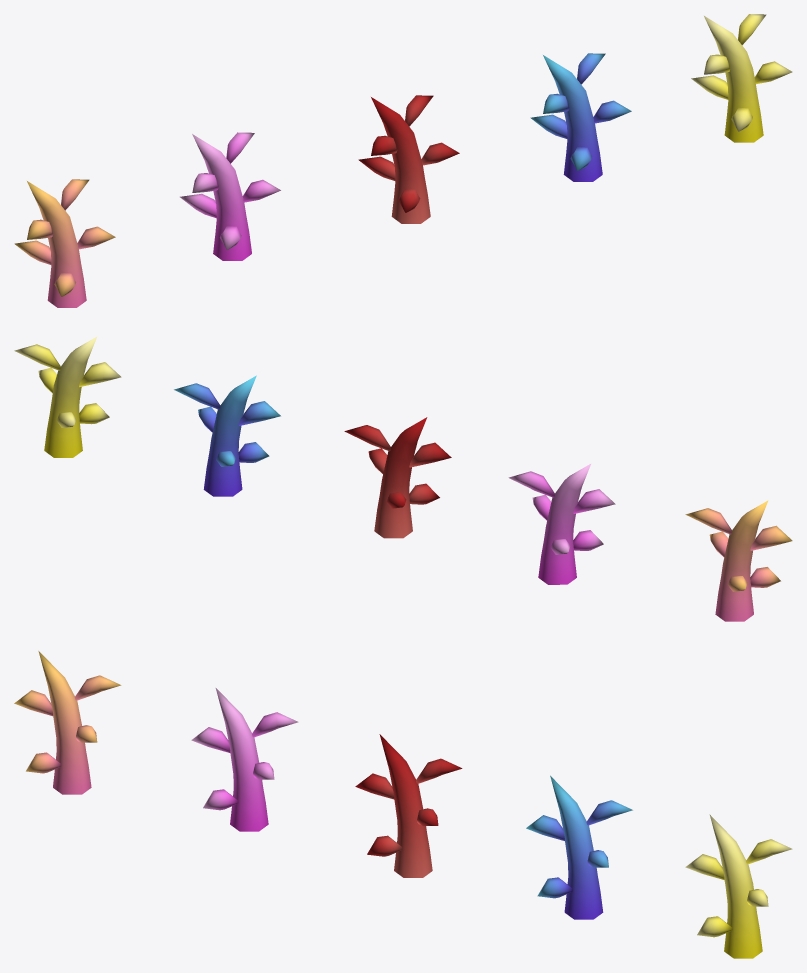
File: CoralReefSet2.fbx
The picture shows the model from 3 angles, top to bottom: view 1: azimuth 30°, elevation 25°; view 2: azimuth 150°, elevation 25°; view 3: azimuth 330°, elevation 25°; orthographic projection.
Visible parts, largest first — view 1: B_CoralReef.004, B_CoralReef.001, B_CoralReef.002, B_CoralReef.003, B_CoralReef; view 2: B_CoralReef.001, B_CoralReef.003, B_CoralReef.004, B_CoralReef, B_CoralReef.002; view 3: B_CoralReef.004, B_CoralReef.003, B_CoralReef, B_CoralReef.002, B_CoralReef.001.
Boxes of the visible parts, <box> form: B_CoralReef.004: <box>691,14,792,142</box>; B_CoralReef.001: <box>358,95,459,223</box>; B_CoralReef.002: <box>530,53,631,181</box>; B_CoralReef.003: <box>180,132,280,260</box>; B_CoralReef: <box>14,179,115,307</box>; B_CoralReef.001: <box>344,417,451,538</box>; B_CoralReef.003: <box>508,464,615,584</box>; B_CoralReef.004: <box>14,337,121,457</box>; B_CoralReef: <box>685,500,792,621</box>; B_CoralReef.002: <box>174,375,280,496</box>; B_CoralReef.004: <box>685,814,792,958</box>; B_CoralReef.003: <box>191,688,298,831</box>; B_CoralReef: <box>14,651,121,794</box>; B_CoralReef.002: <box>526,775,632,919</box>; B_CoralReef.001: <box>355,734,462,877</box>.
Size of the model in its own units: 666 by 106 by 72.91.
Materials: 1 (1 with a texture image).
